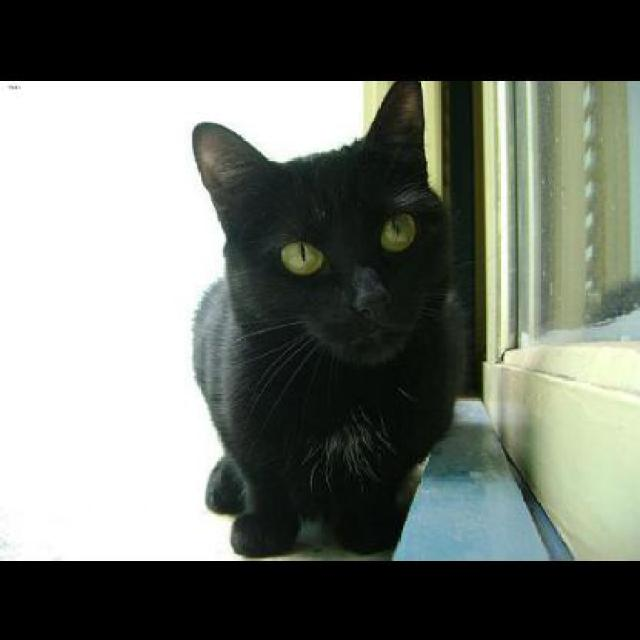unauthorized: (188, 78, 466, 557)
